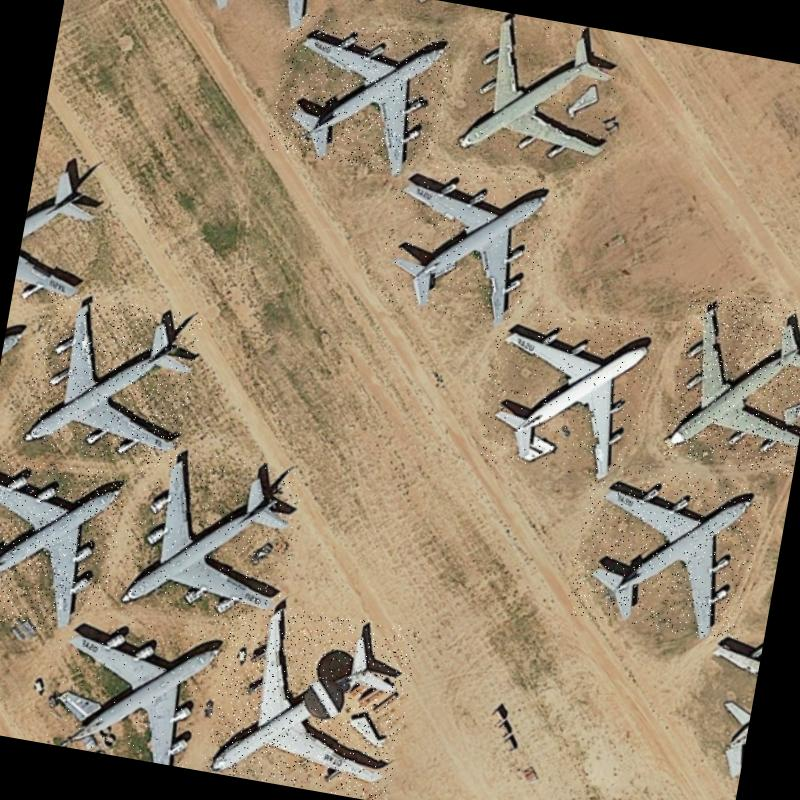A14: (566, 456, 766, 644), (114, 441, 305, 634), (474, 298, 663, 486), (19, 289, 204, 472), (376, 154, 560, 332), (37, 604, 231, 771), (266, 10, 456, 179), (453, 12, 628, 178), (662, 283, 800, 477), (0, 450, 129, 639)
A7: (204, 596, 419, 800)
